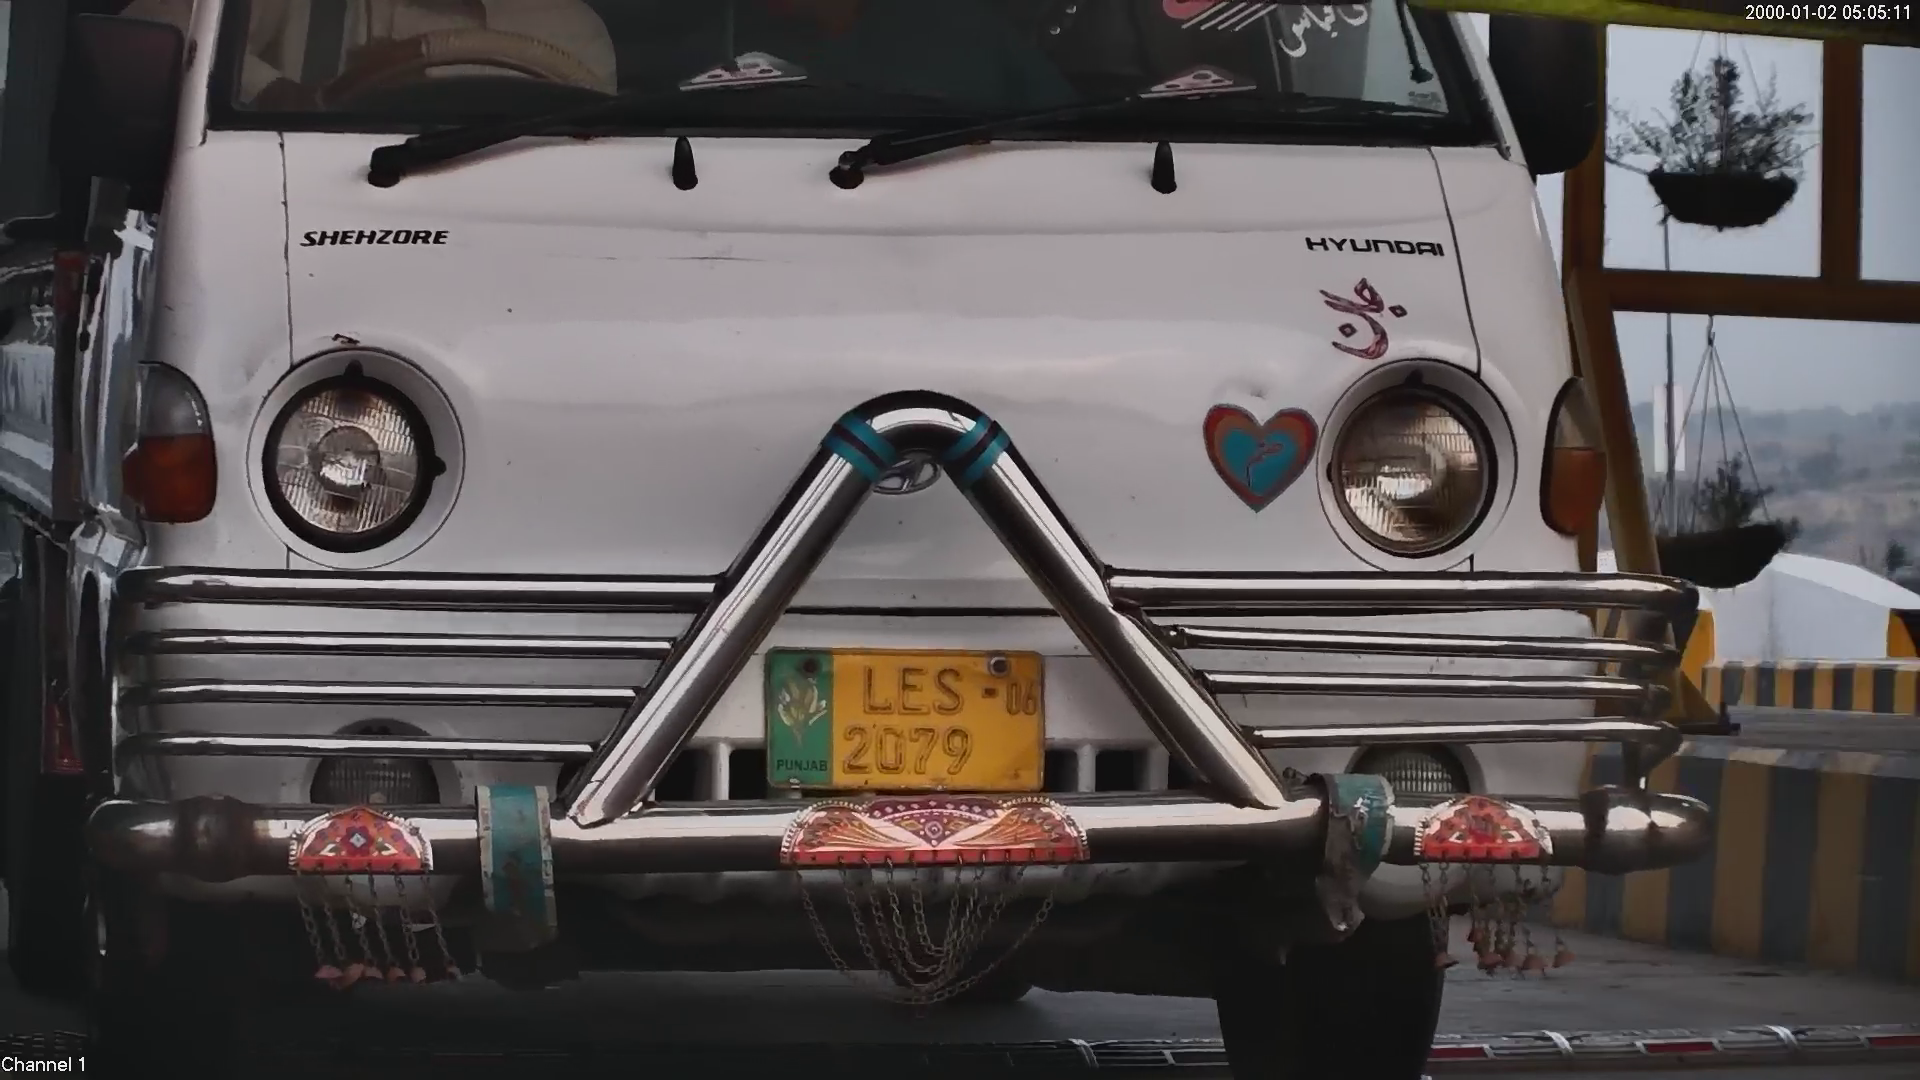Number_Plate: (752, 635, 1059, 797)
